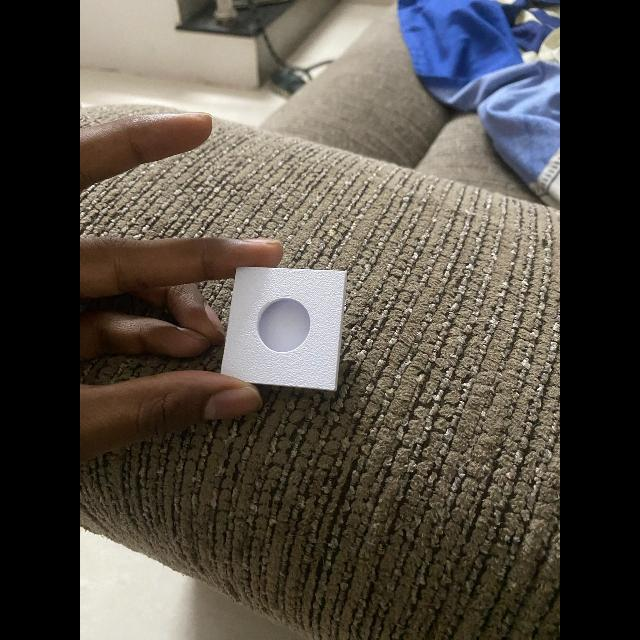RASPBERY PI CAM ENCLOSURE: (220, 267, 346, 391)
